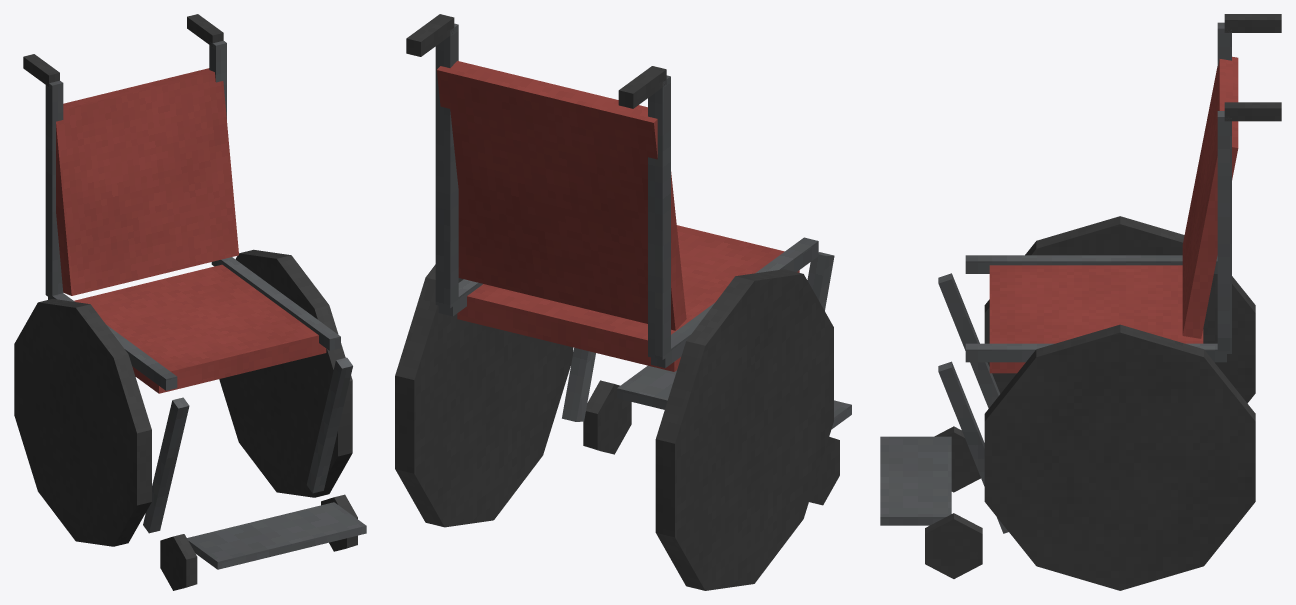
File: int_wheelchair.glb
3 views of the same model, side by side, from view 1: azimuth 30°, elevation 25°; view 2: azimuth 150°, elevation 25°; view 3: azimuth 270°, elevation 25° (orthographic). The views are drawn at different scales.
Visible parts, largest first — view 1: detail, chair-col; view 2: detail, chair-col; view 3: detail, chair-col.
Boxes of the visible parts, x1,y1,x2,y2 form: detail: [14, 14, 366, 590]; chair-col: [56, 68, 326, 393]; detail: [395, 14, 851, 590]; chair-col: [436, 61, 799, 371]; detail: [880, 14, 1281, 590]; chair-col: [989, 56, 1238, 373].
Bounding box in the file's own units: 0.58 × 1.1 × 0.845.
Materials: 3 (3 with a texture image).
